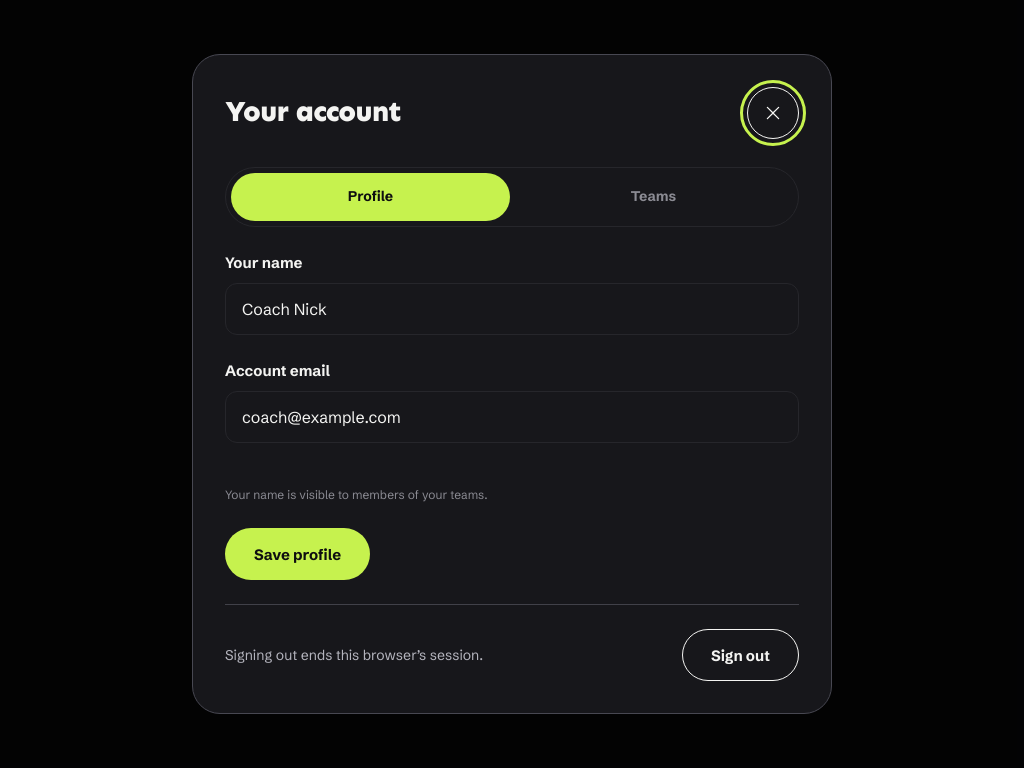
Scenario: account panel › keeps an edited profile after a server error and does not close when sign-out is rejected
This screenshot has width=1024, height=768.
Replace the text in the field labelled "Your name" with "  Coach Nicholas  " at (512, 309), box [225,282,799,335]
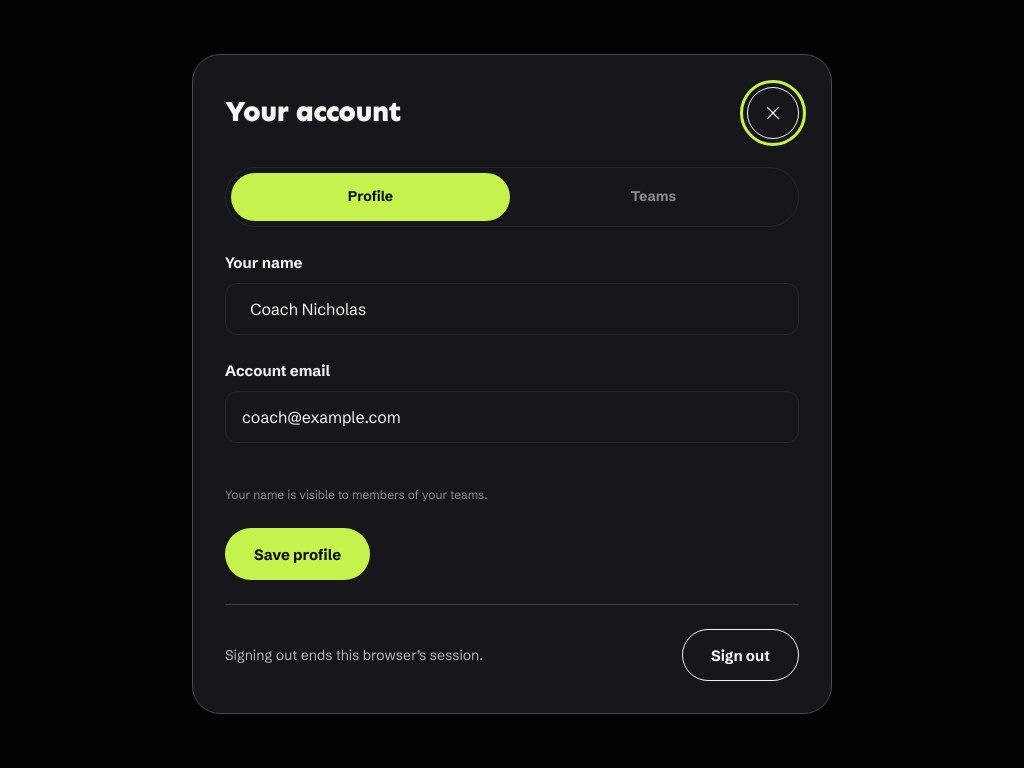
Click the button "Save profile" at (298, 554), box [225,528,370,580]
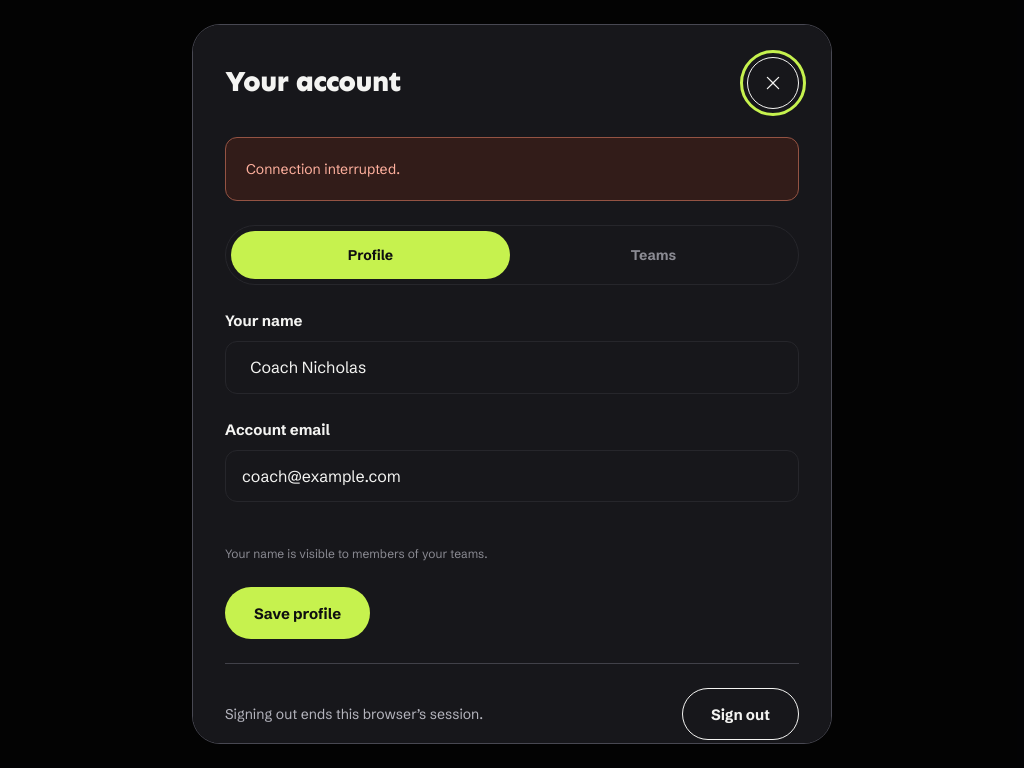
Check: the text "Connection interrupted." is shown, box [225,137,799,201]
Click the button "Sign out" at (740, 714), box [682,688,799,740]
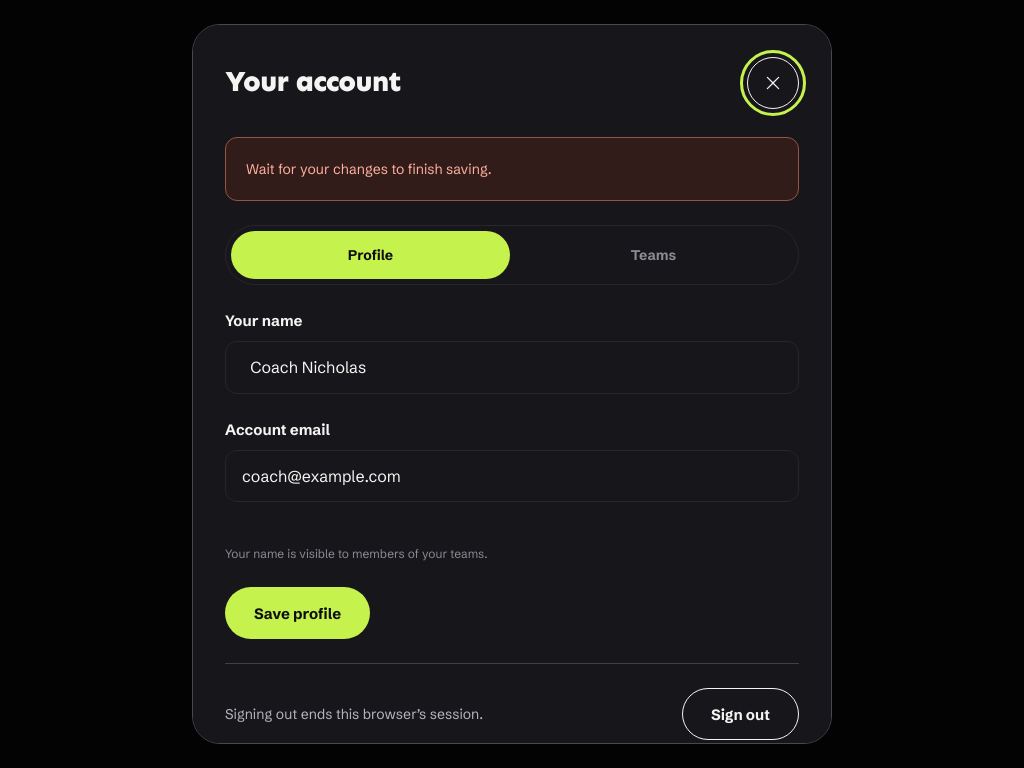
Check: the text "Wait for your changes to finish saving." is shown, box [225,137,799,201]
